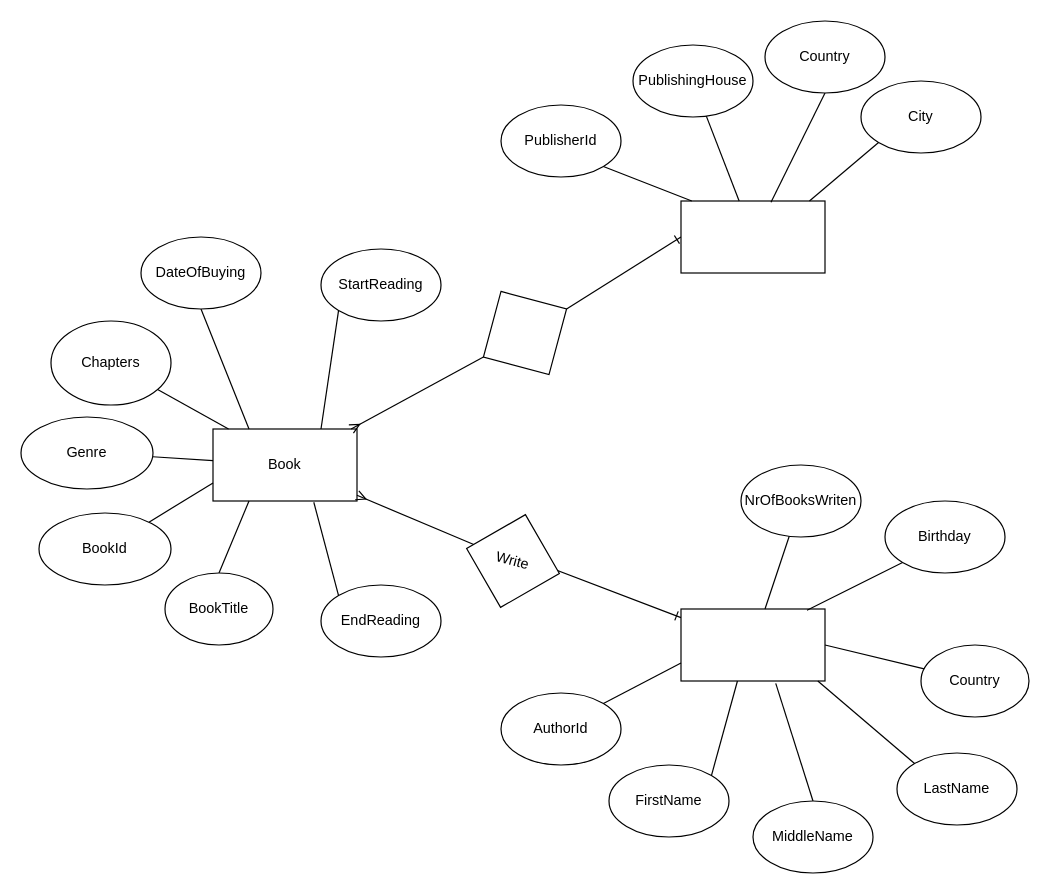
This 1050x894 diagram has some shape labels left out. Each missing label, with the centre of its shape:
"Author" goes at (x=752, y=644).
"Publish" goes at (x=524, y=332).
"Publisher" goes at (x=752, y=236).
